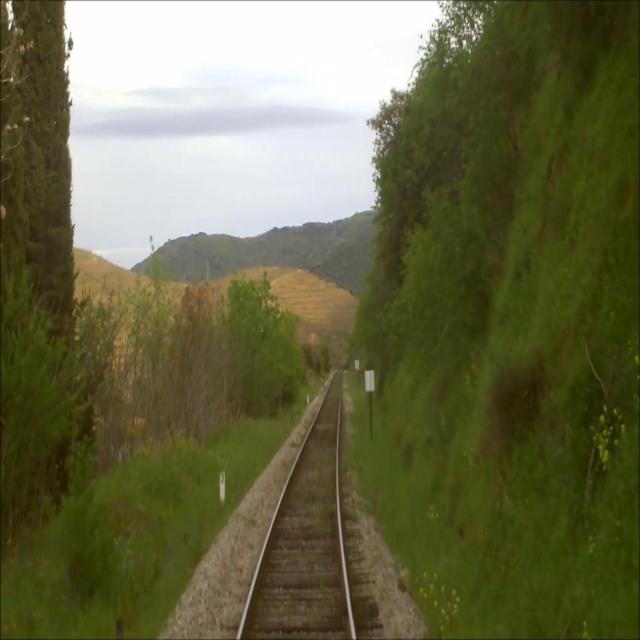rail-track: (240, 372, 350, 639)
